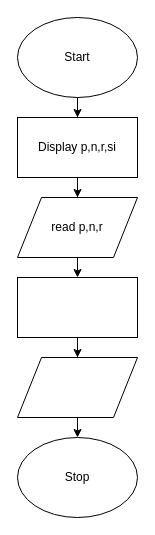
The diagram is 155 pixels wide and 535 high, and some of its shapes have lost their labels. The centre of each missing label's shape, as x and y in pixels:
Dispay Si: (x=77, y=387)
si=p*n*r/100: (x=77, y=307)
